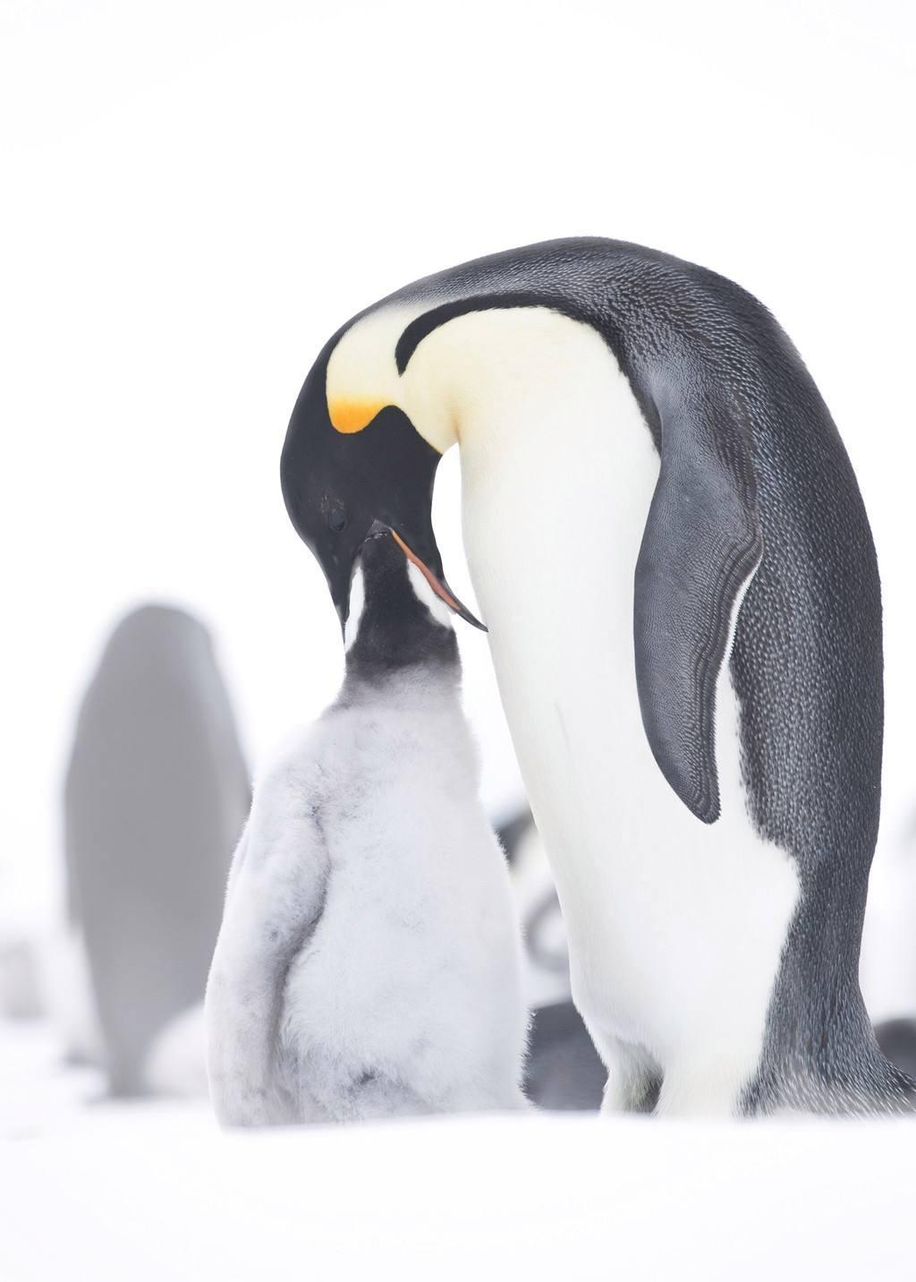Penguin: (283, 238, 911, 1113), (205, 524, 527, 1126)
